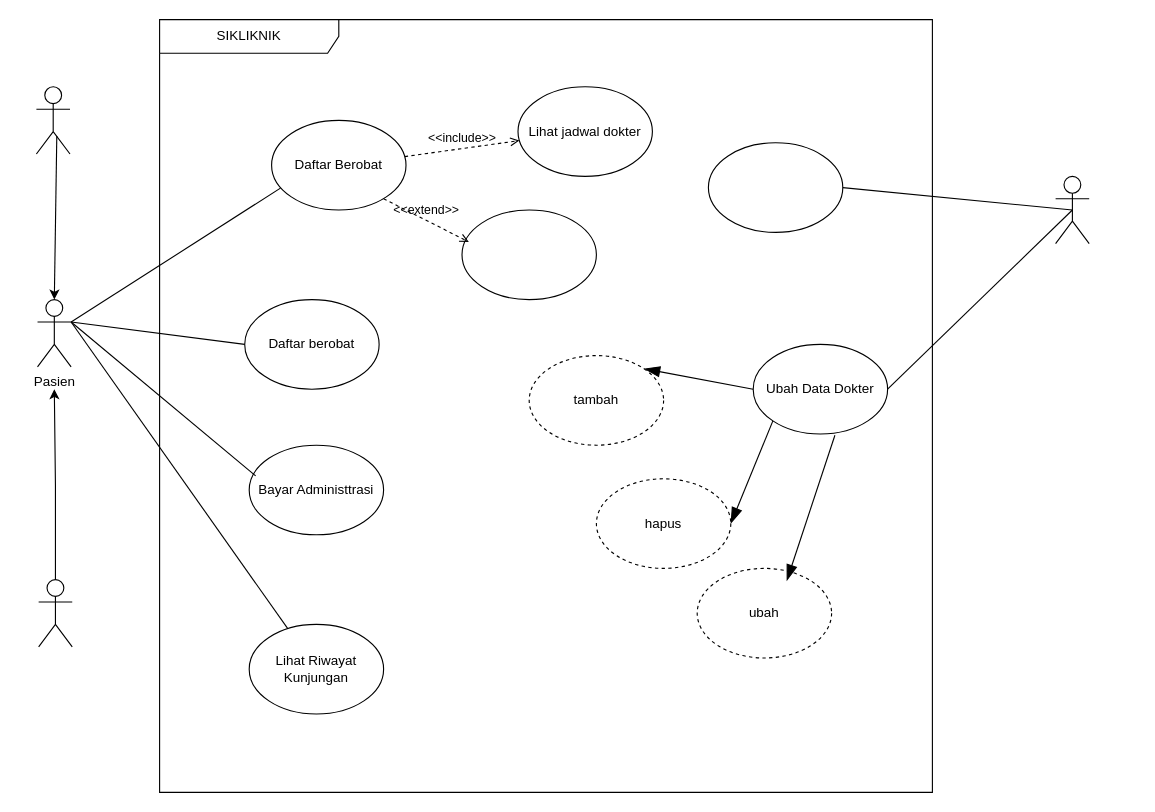
Image size: 1155x812. Some labels were removed from this diagram. Here are the shapes that lost their labels. From the top down, the centre of each, then its label:
pixel 52 120: Mahasiswa
pixel 775 187: Lihat Laporan Kunjungan
pixel 1071 209: Petugas Pendaftaran
pixel 528 254: Pendaftaratan tercatat
pixel 55 612: Dosen
